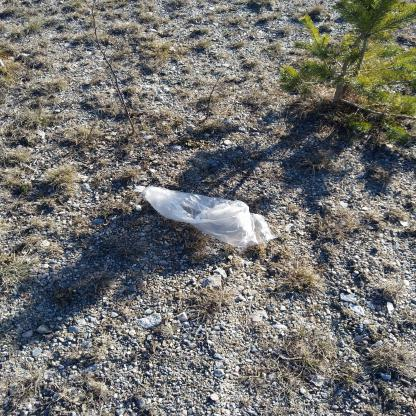plastik: (142, 186, 278, 247)
